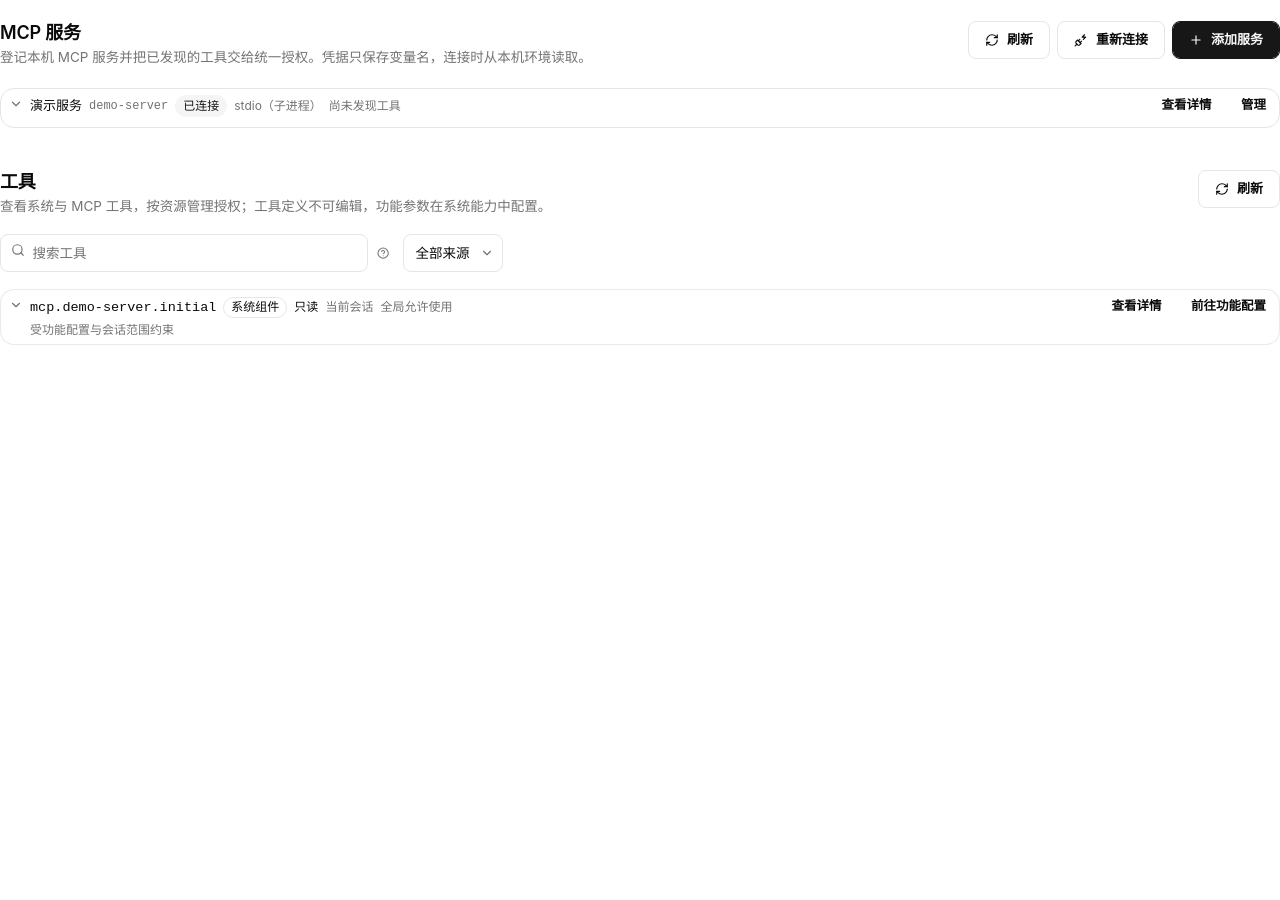
Test: connection shared resource prewarm › 保存、重载、删除成功后更新共享目录
The image size is (1280, 900).
Expected: the text "mcp.demo-server.initial" is shown, top-left (30, 298), bottom-right (216, 318)
Click the button "管理" at (1254, 105), box top-left (1228, 89), bottom-right (1279, 121)
(page scrolled)
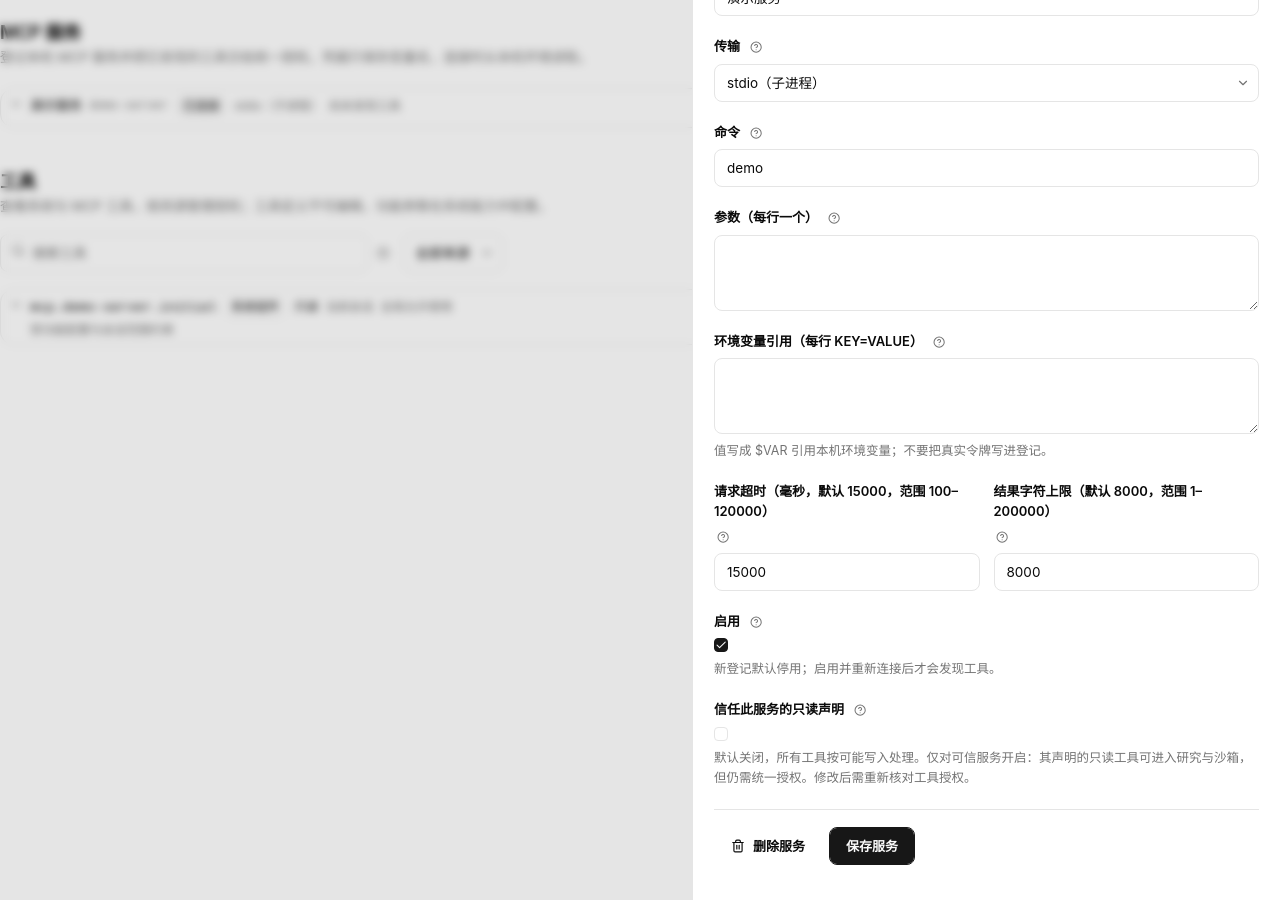
Click the button "保存服务" at (872, 846), box top-left (829, 827), bottom-right (915, 865)
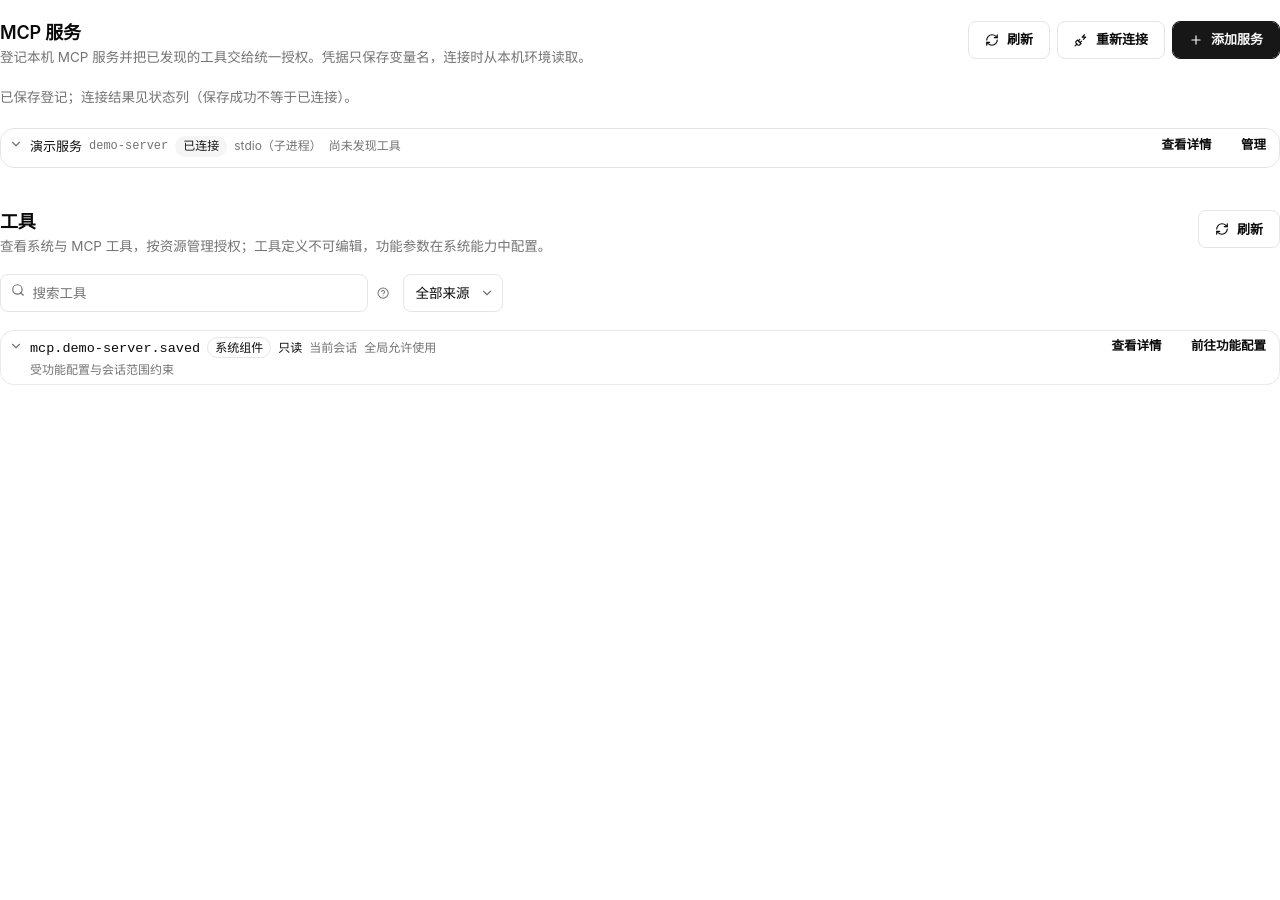
Expected: the text "mcp.demo-server.saved" is shown, top-left (30, 339), bottom-right (200, 358)
Click the button "重新连接" at (1111, 40), box top-left (1057, 21), bottom-right (1165, 59)
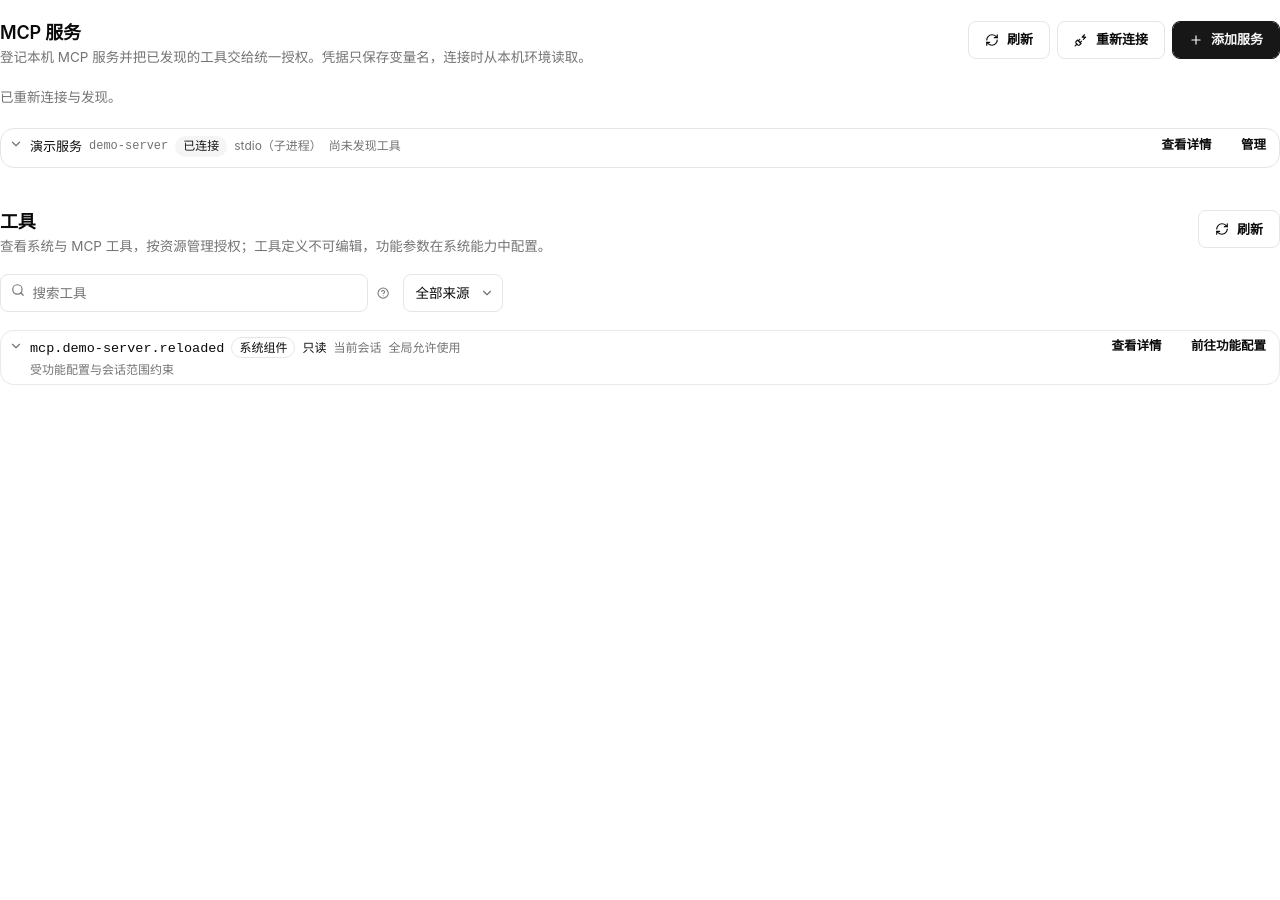
Expected: the text "mcp.demo-server.reloaded" is shown, top-left (30, 339), bottom-right (224, 358)
Click the button "管理" at (1254, 146), box top-left (1228, 130), bottom-right (1279, 162)
(page scrolled)
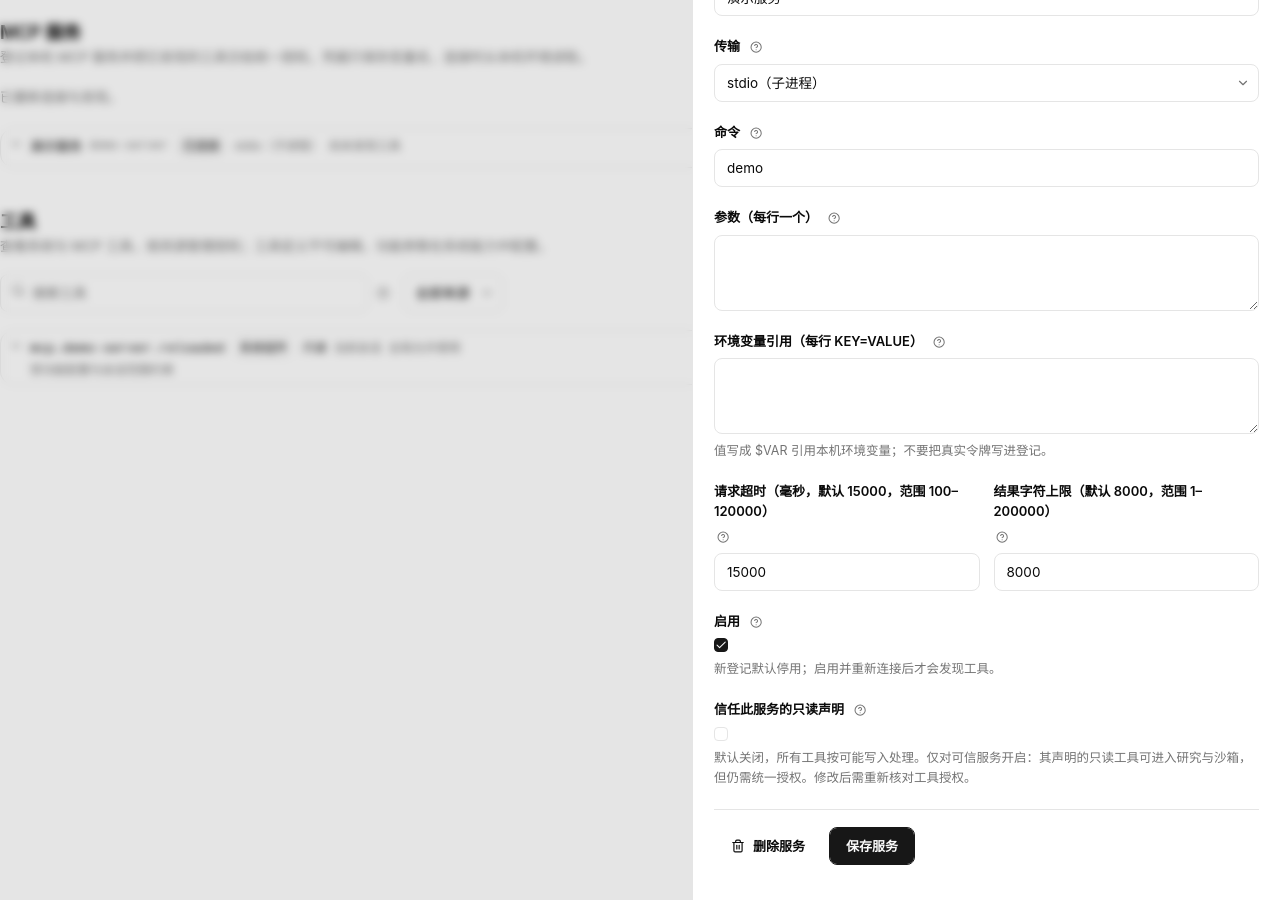
Click the button "删除服务" at (768, 846), box top-left (714, 827), bottom-right (822, 865)
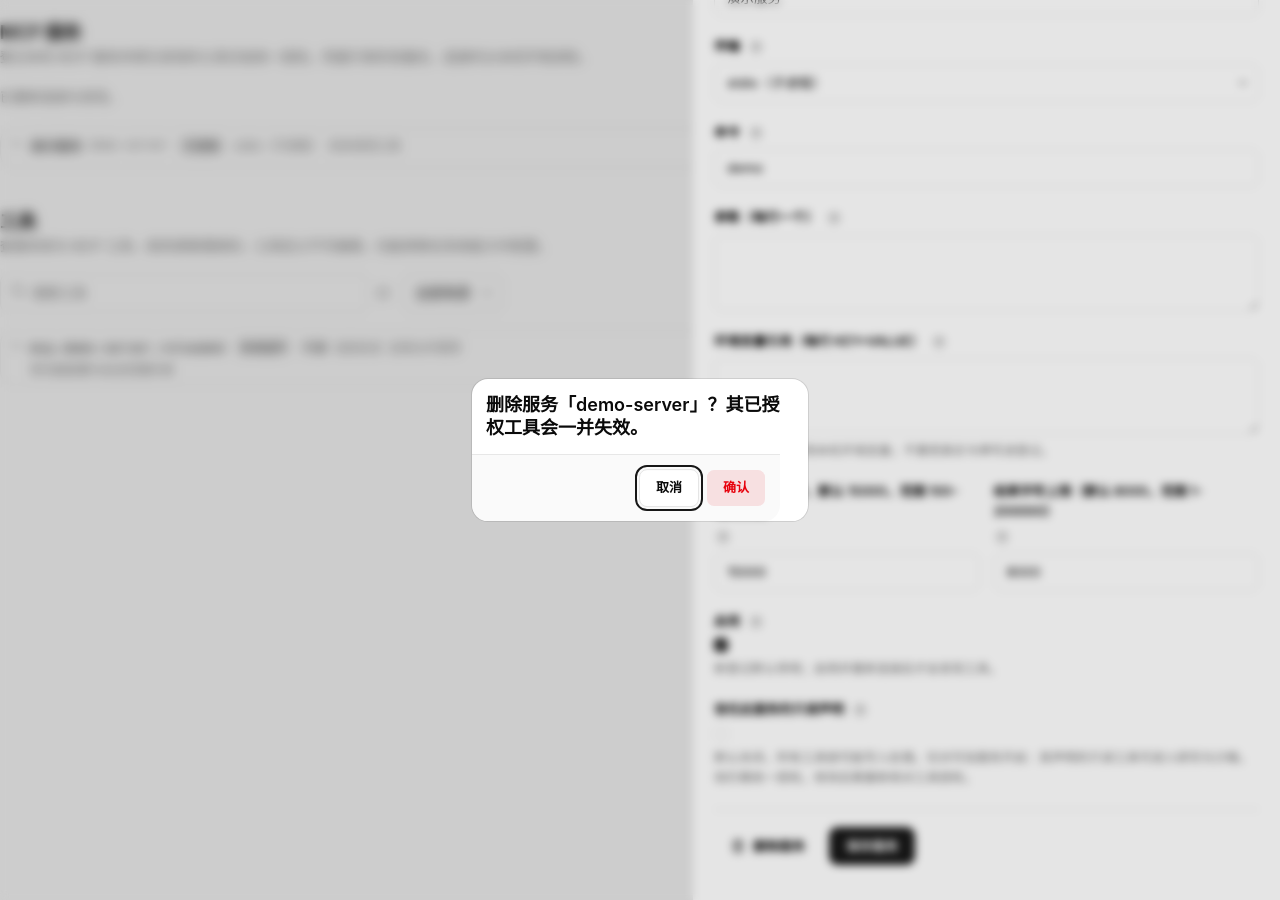
Click the button "确认" at (736, 488), box top-left (706, 469), bottom-right (766, 507)
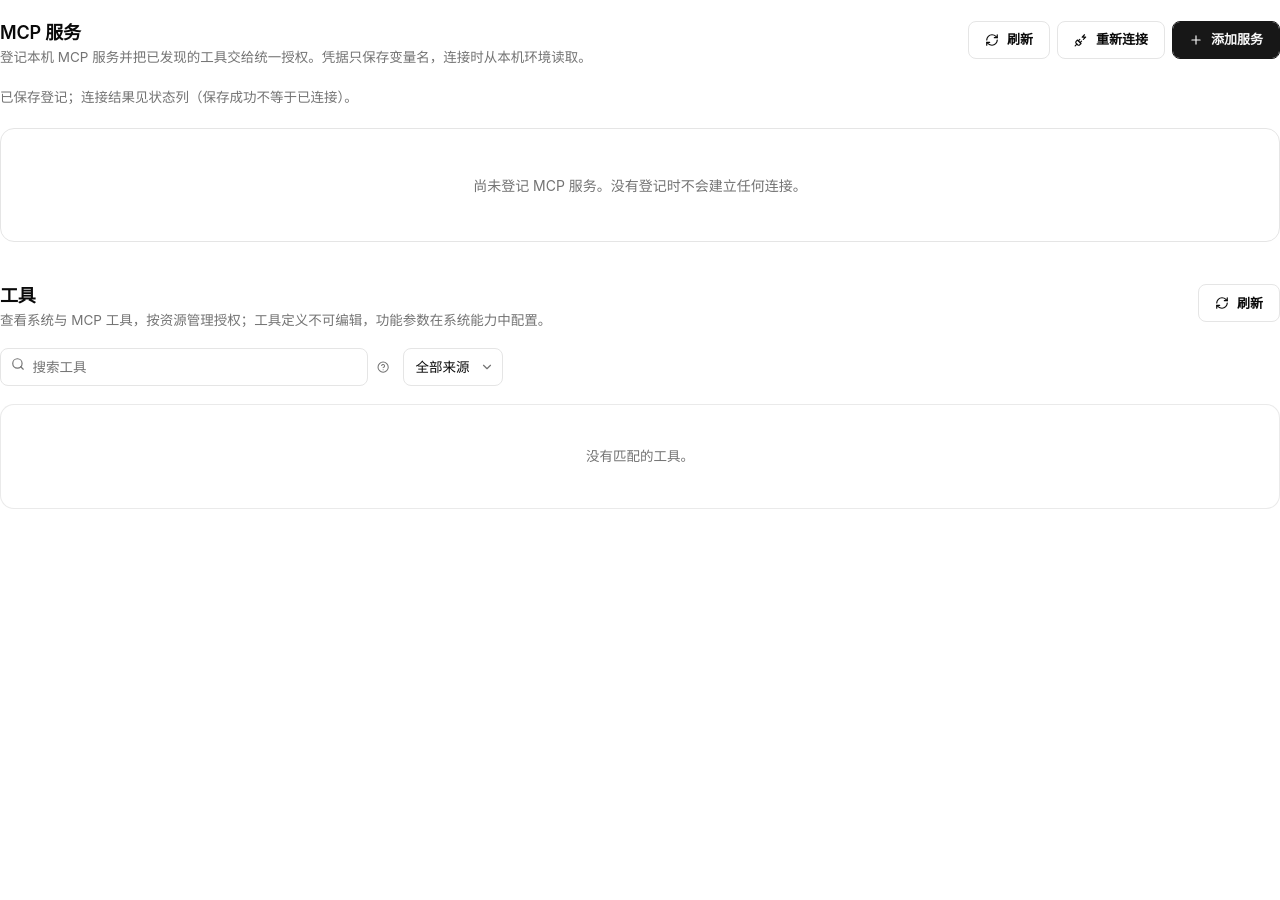
Expected: the button "mcp.demo-server.reloaded" is gone
